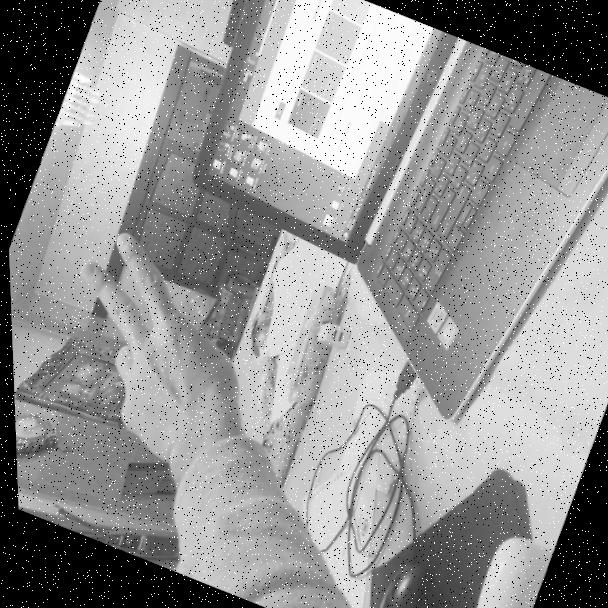two: (14, 209, 292, 489)
